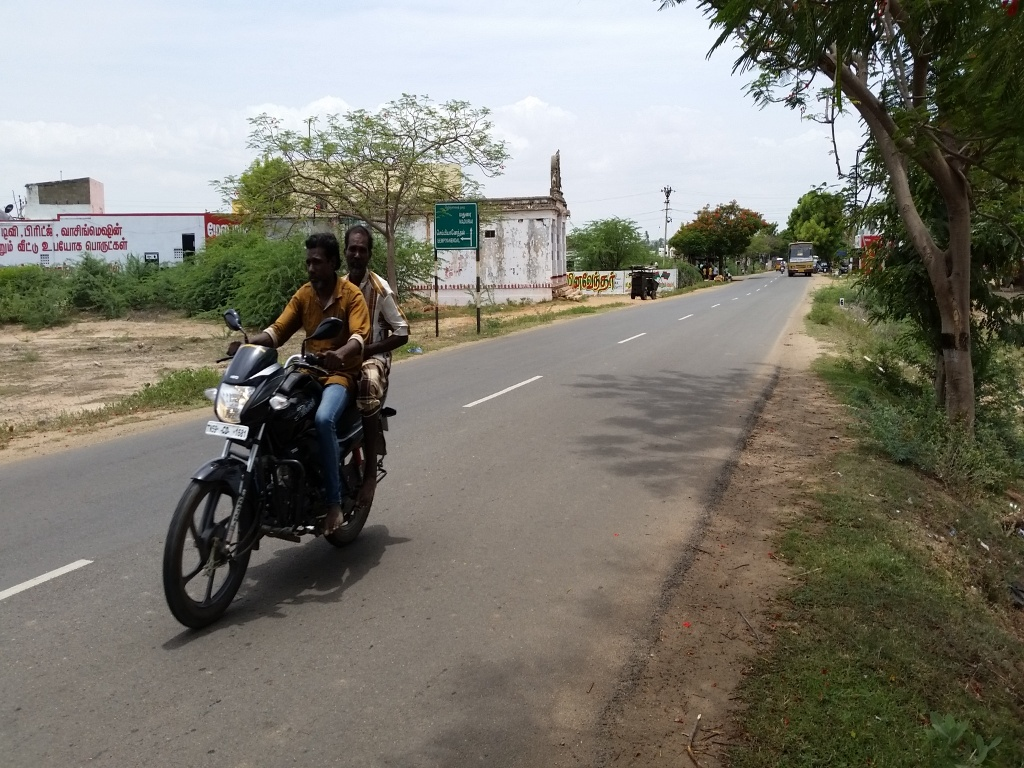biker: (130, 177, 434, 643)
nohelmet: (297, 228, 345, 303), (340, 221, 380, 287)
